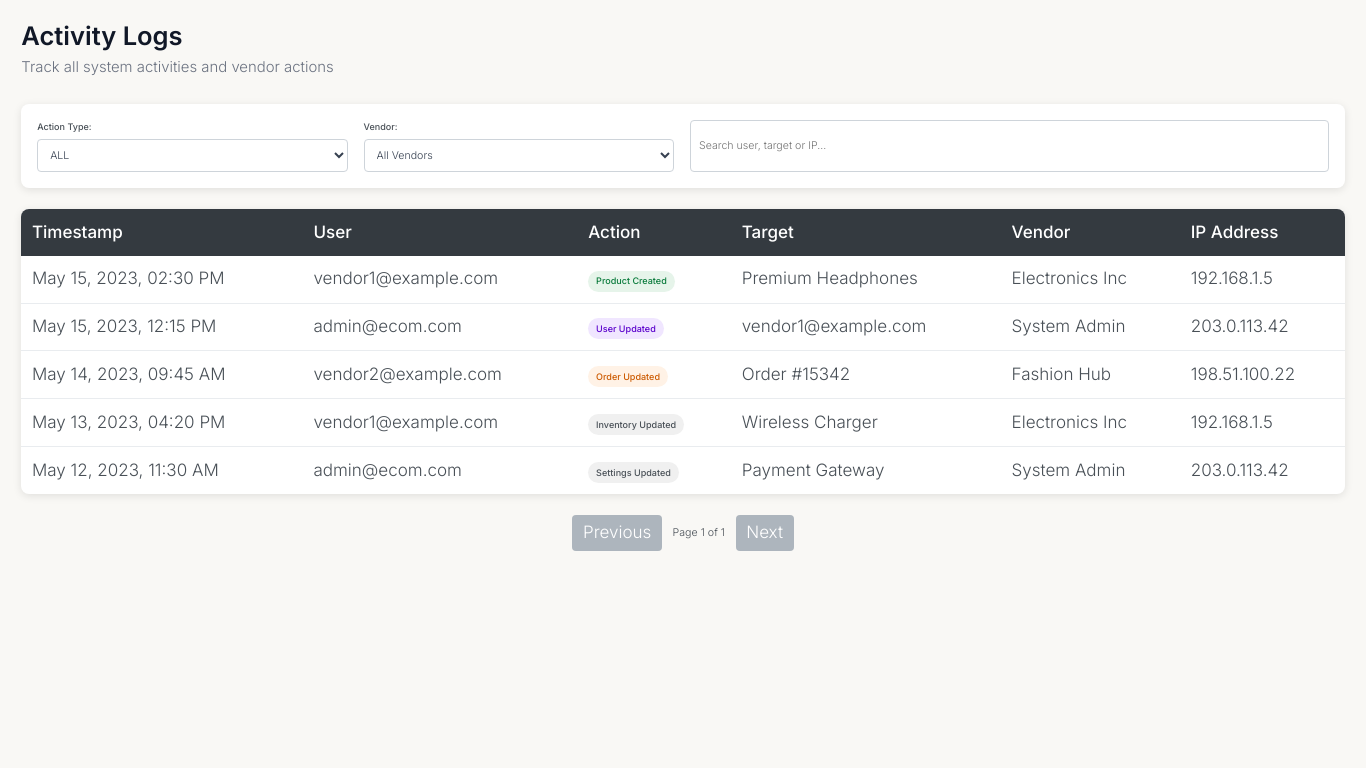
Test: UsersActivityPage › filters by action type
Select "USER UPDATE" in the dropdown named "actionType" below "Action Type:": (192, 155) x1=37 y1=139 x2=348 y2=172
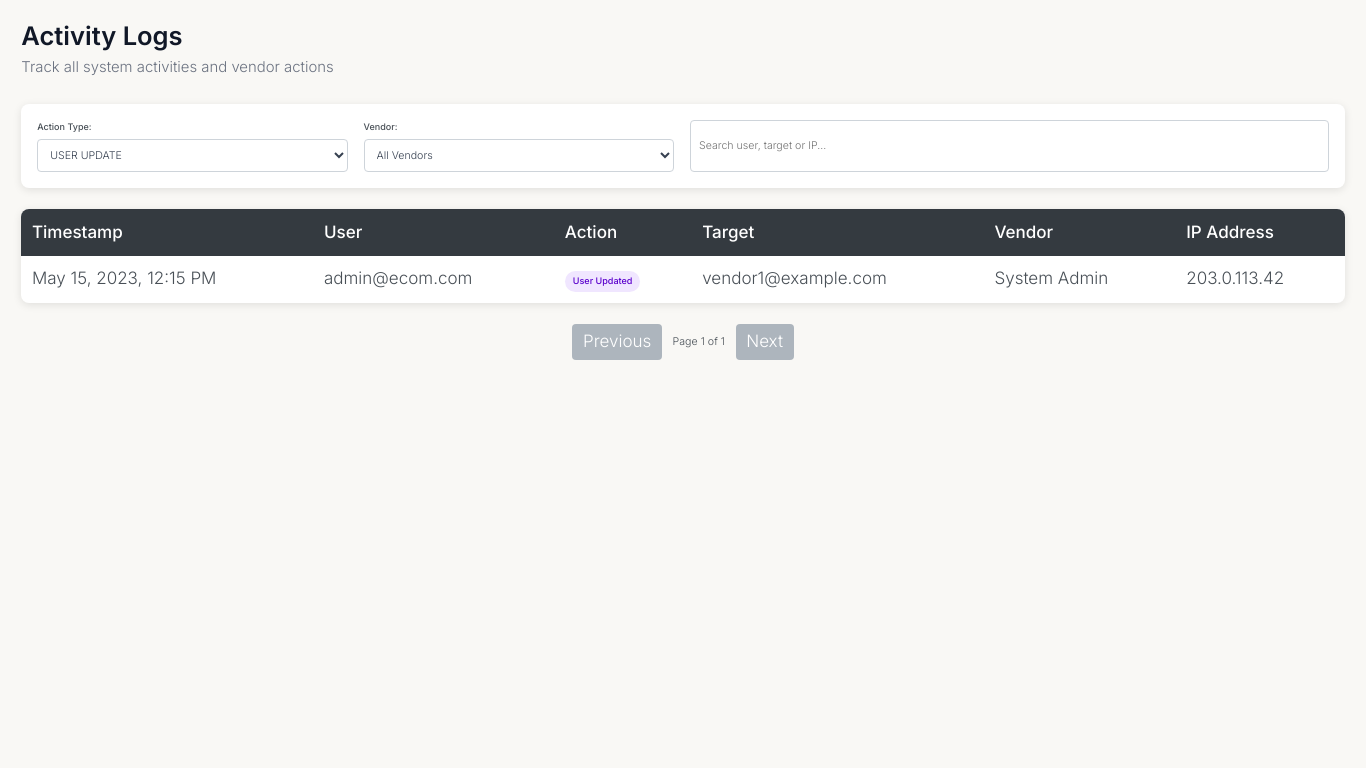
expect the text "User Updated" is shown: met, box x1=565 y1=271 x2=640 y2=292
expect the text "Product Created" is gone: met
